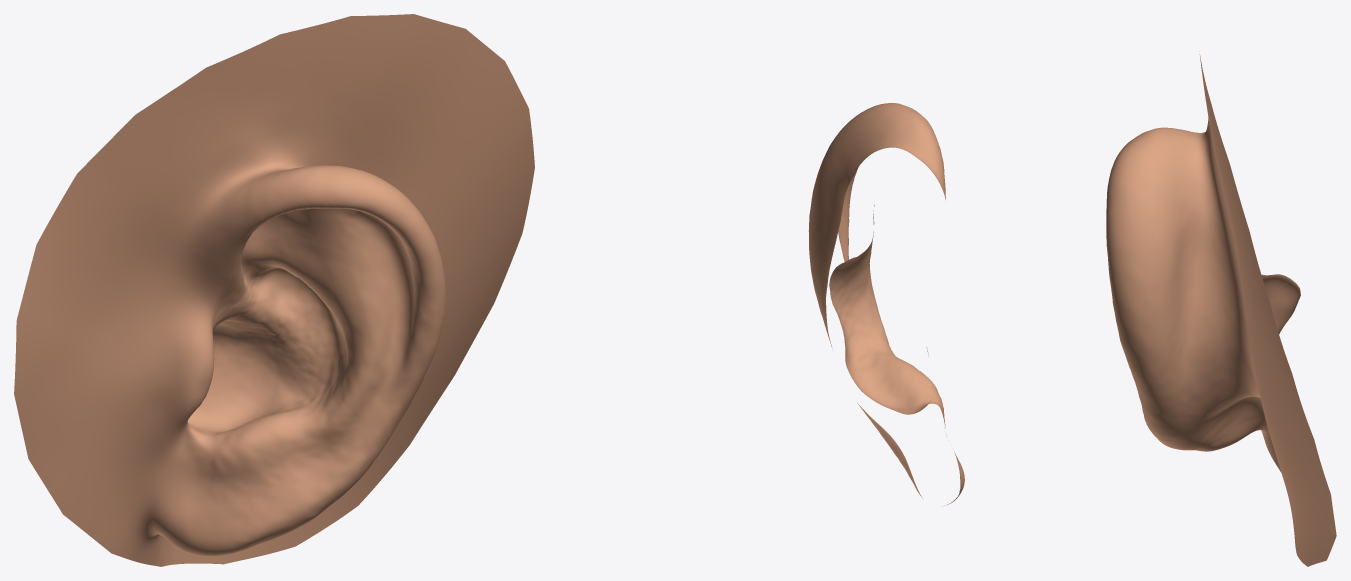
The model's file is ear-l.glb.
The picture shows the model from 3 angles, left to right: view 1: azimuth 30°, elevation 25°; view 2: azimuth 150°, elevation 25°; view 3: azimuth 270°, elevation 25°; orthographic projection. The views are drawn at different scales.
Visible parts, largest first — view 1: skin; view 2: skin; view 3: skin.
Part boxes in pixels (box(x1,y1,x2,y2)): skin: box(14, 14, 534, 566); skin: box(808, 103, 964, 506); skin: box(1106, 54, 1336, 566).
Size of the model in its own units: 0.08 by 0.08 by 0.0336.
